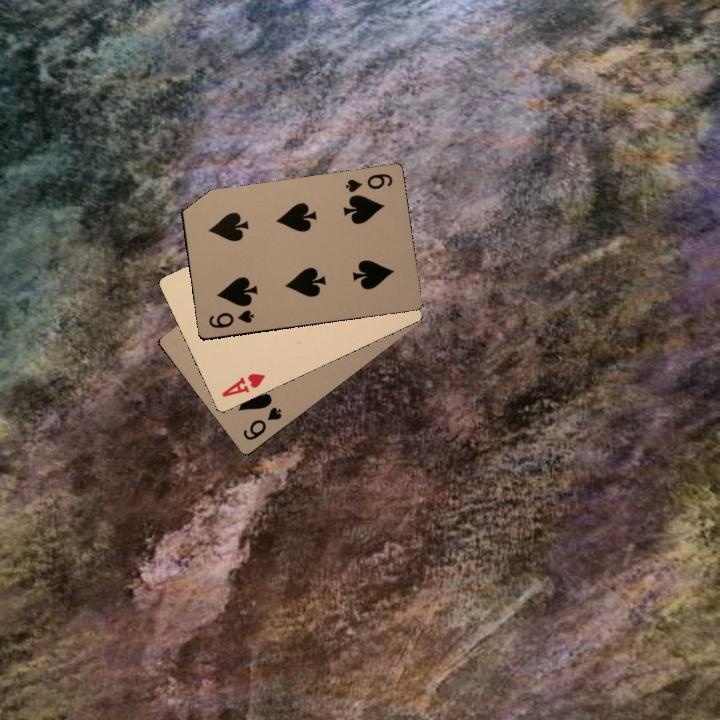6s: (239, 402, 284, 443), (341, 169, 395, 195), (205, 306, 257, 331)
Ah: (217, 369, 268, 400)
